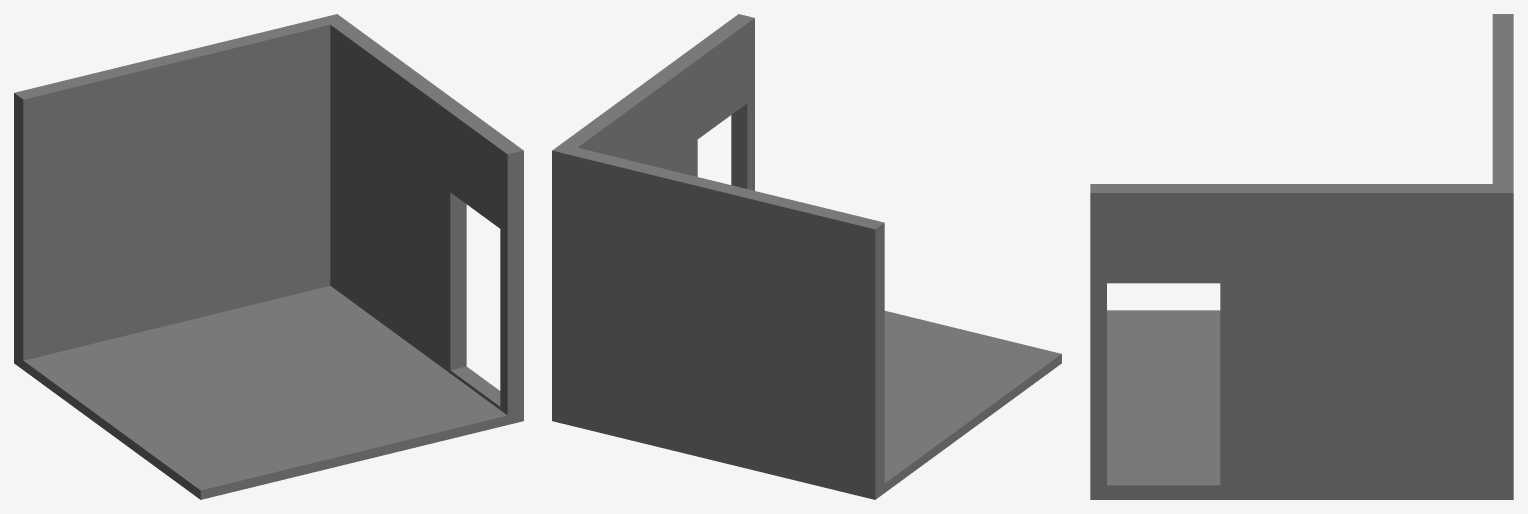
The model's file is Wall_32.fbx.
3 views of the same model, side by side, from view 1: azimuth 30°, elevation 25°; view 2: azimuth 150°, elevation 25°; view 3: azimuth 270°, elevation 25° (orthographic). The views are drawn at different scales.
Visible parts, largest first — view 1: Wall_32; view 2: Wall_32; view 3: Wall_32.
Boxes of the visible parts, x1,y1,x2,y2 form: Wall_32: (14,14,523,499); Wall_32: (552,14,1061,499); Wall_32: (1090,14,1513,499).
Bounding box in the file's own units: 3.8 × 3.04 × 3.8.
